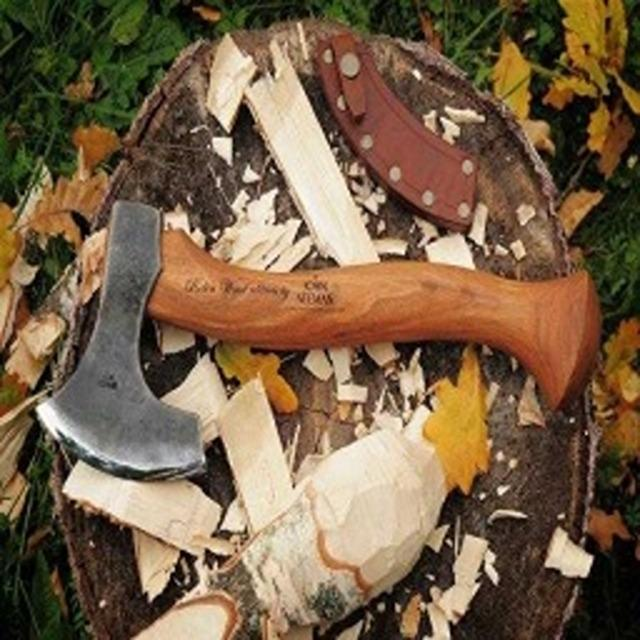ax: (24, 187, 611, 492)
